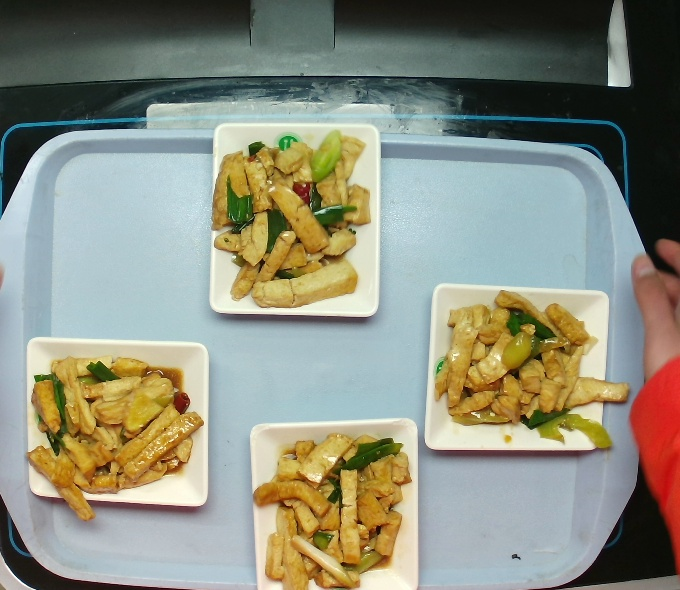wcq-SuanMiaoChaoXiangGan: (20, 350, 203, 520), (434, 295, 624, 454), (214, 138, 360, 304), (254, 435, 406, 585)
